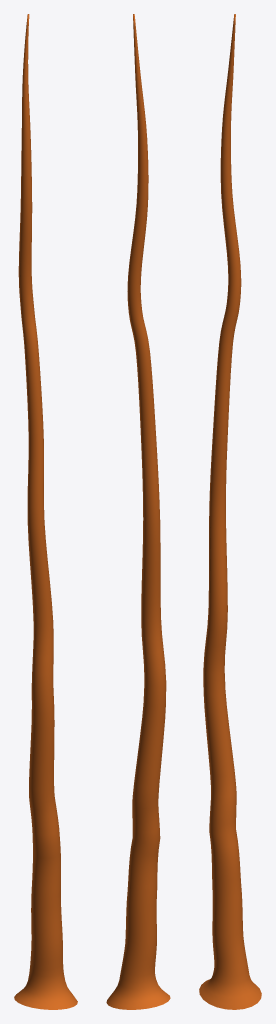
The model's file is trunk.obj.
3 views of the same model, side by side, from view 1: azimuth 90°, elevation 25°; view 2: azimuth 150°, elevation 25°; view 3: azimuth 330°, elevation 25° (orthographic). The views are drawn at different scales.
Visible parts, largest first — view 1: VP_Free_Birch_Trunk_01; view 2: VP_Free_Birch_Trunk_01; view 3: VP_Free_Birch_Trunk_01.
Boxes of the visible parts, x1=… form: VP_Free_Birch_Trunk_01: x1=14, y1=14, x2=77, y2=1009; VP_Free_Birch_Trunk_01: x1=106, y1=14, x2=170, y2=1009; VP_Free_Birch_Trunk_01: x1=199, y1=14, x2=261, y2=1009.
Bounding box in the file's own units: 47.22 × 809 × 47.18.
